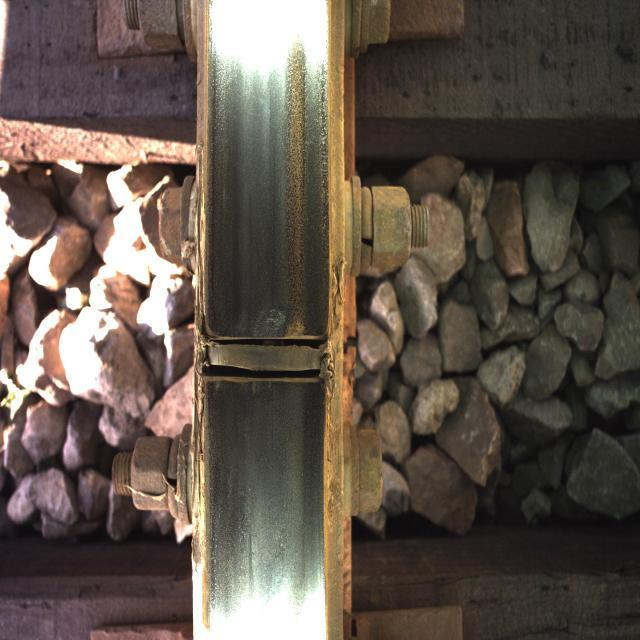spalling: (176, 289, 382, 426)
